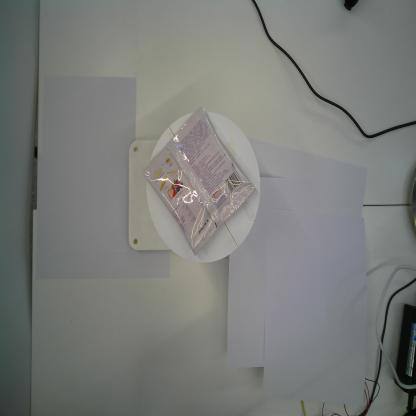Instant Drink: (142, 106, 255, 257)
